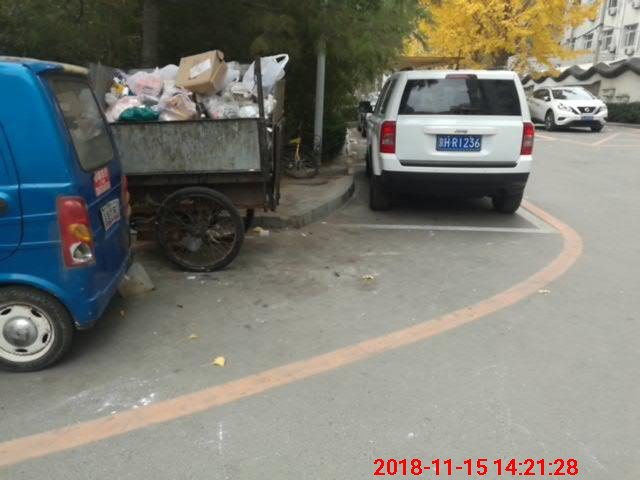trash: (58, 21, 306, 284)
